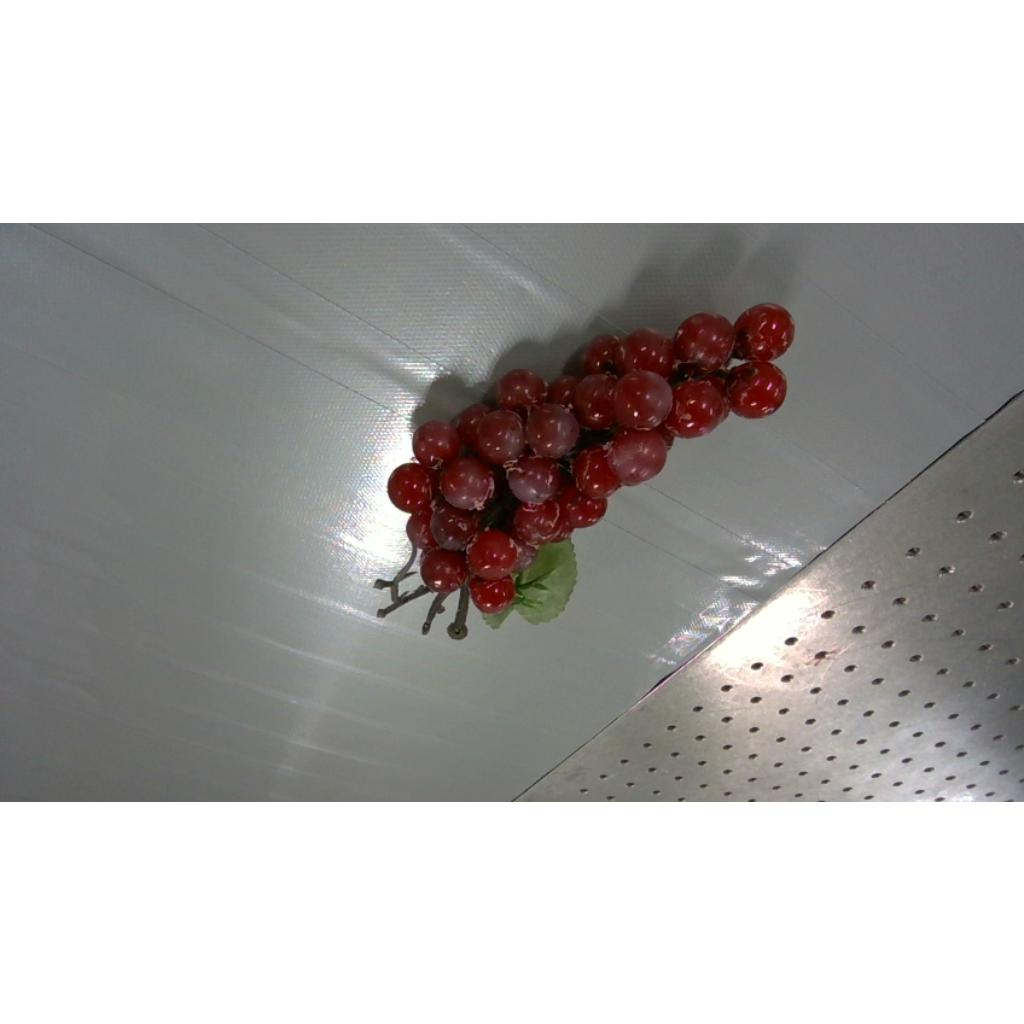grape: (376, 302, 794, 638)
